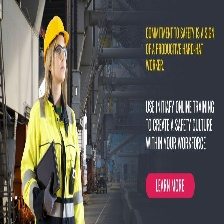helmet: (42, 13, 70, 50)
person: (21, 15, 85, 224)
vest: (19, 93, 84, 221)
